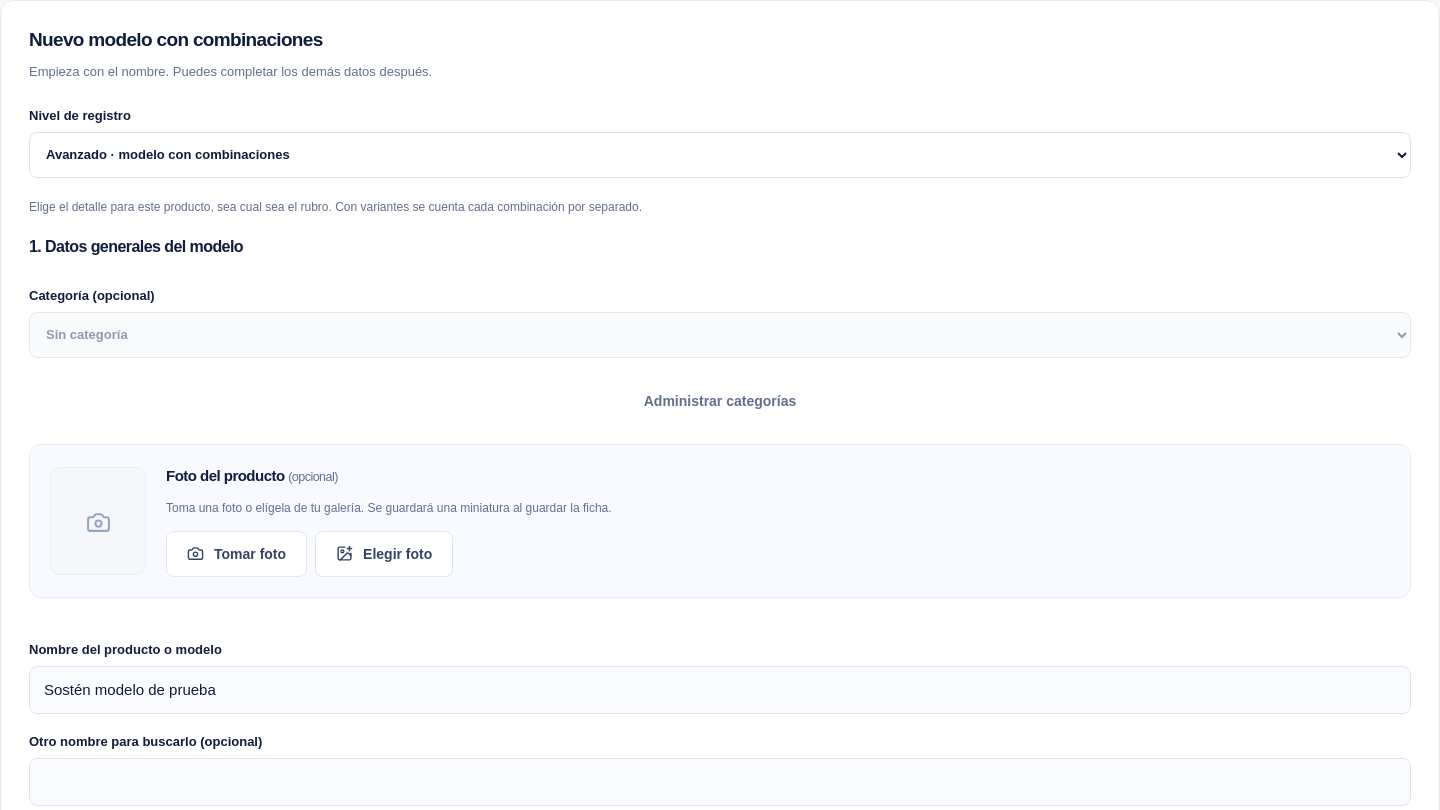
Test: presenta tarjetas y un botón de nueva categoría sin mezclar creación y edición en un select
The width and height of the screenshot is (1440, 810).
Click the button "Administrar categorías" at point(720, 400), box [29,378,1411,424]
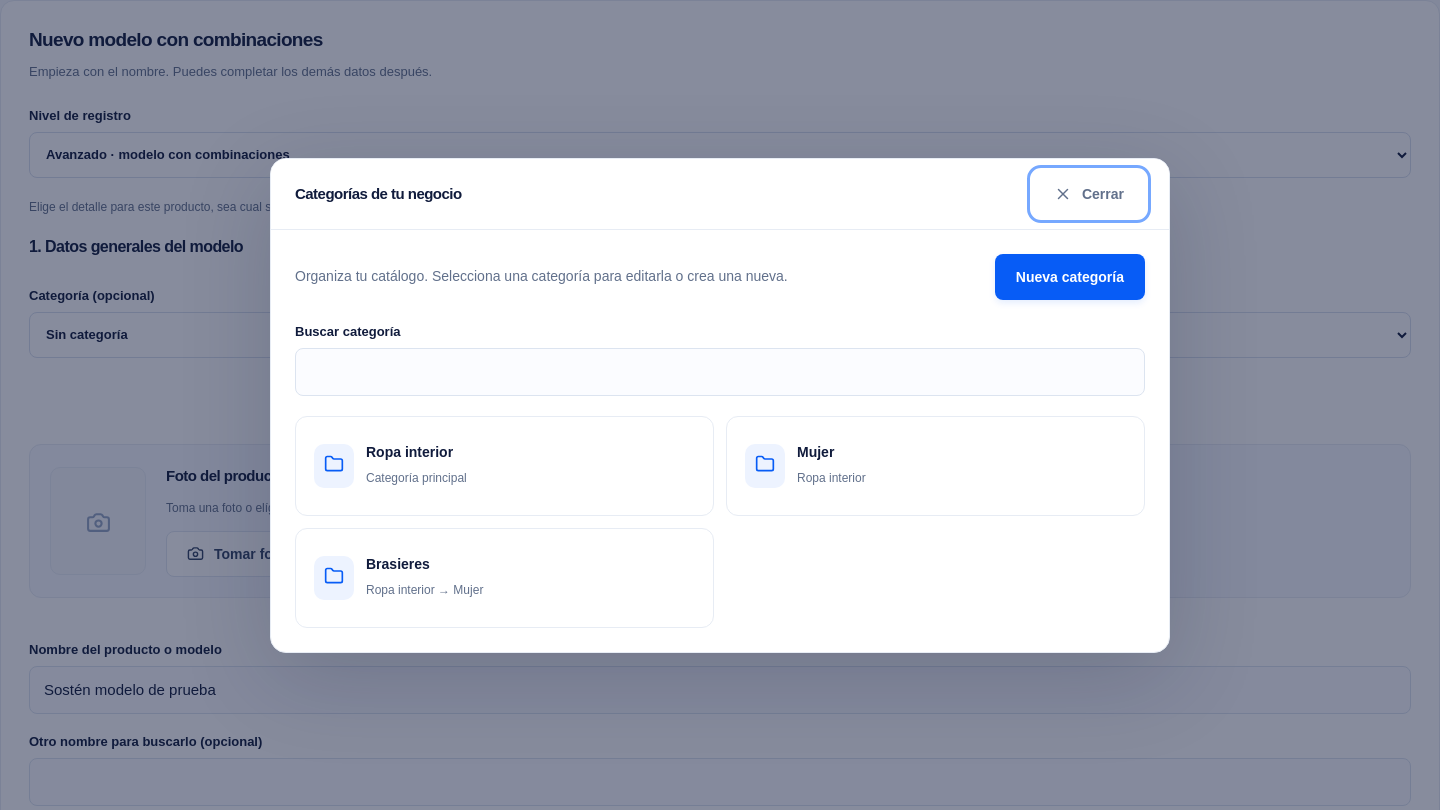
Check: the field labelled "Nombre de la categoría" is not shown
Check: the button with aria-label "Editar categoría Ropa interior" is shown
Click the button with aria-label "Editar categoría Ropa interior" at point(334, 466), box [295,416,714,516]
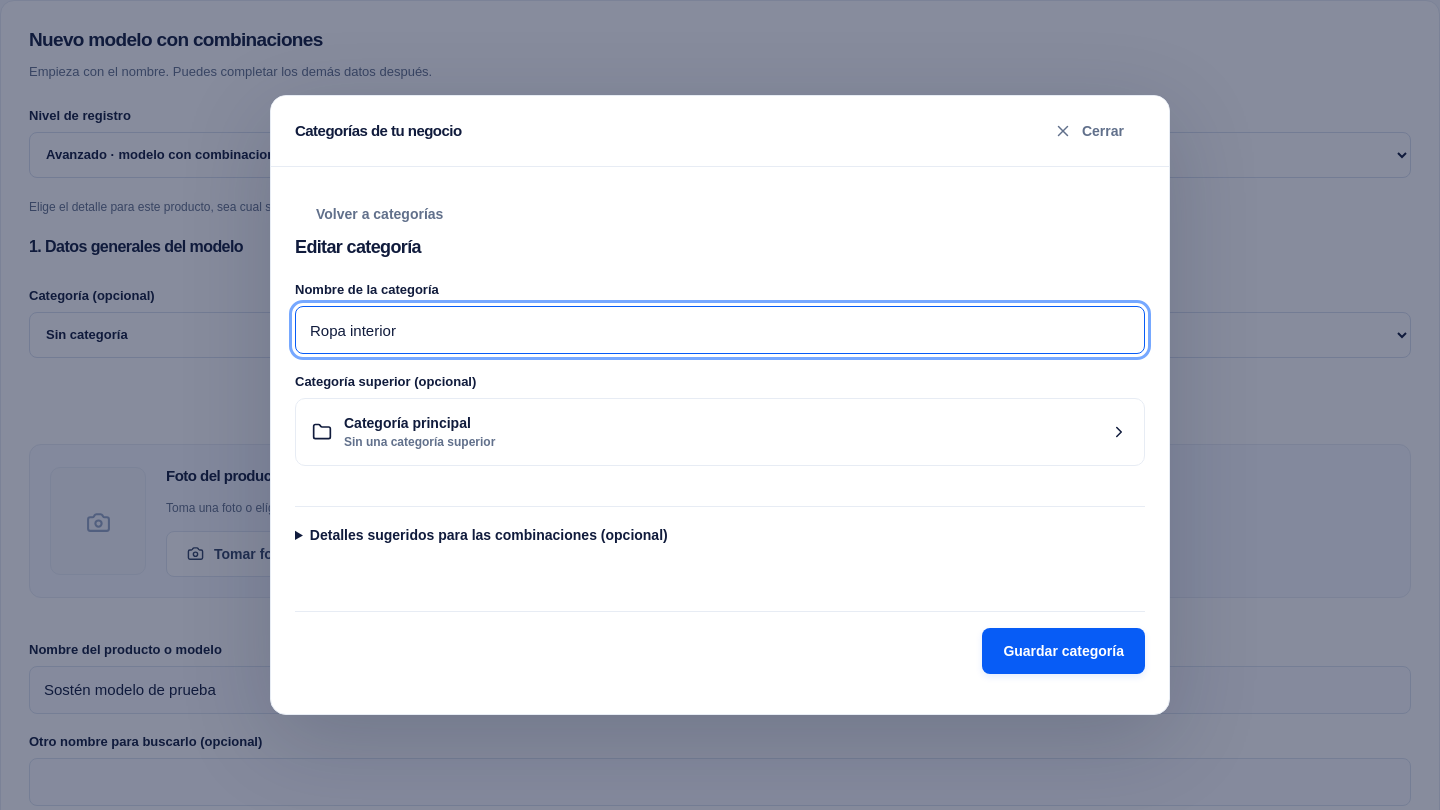
Check: the field labelled "Nombre de la categoría" holds "Ropa interior", box [295,306,1145,354]
Click the button with aria-label "Elegir categoría superior" at point(407, 423), box [295,398,1145,466]
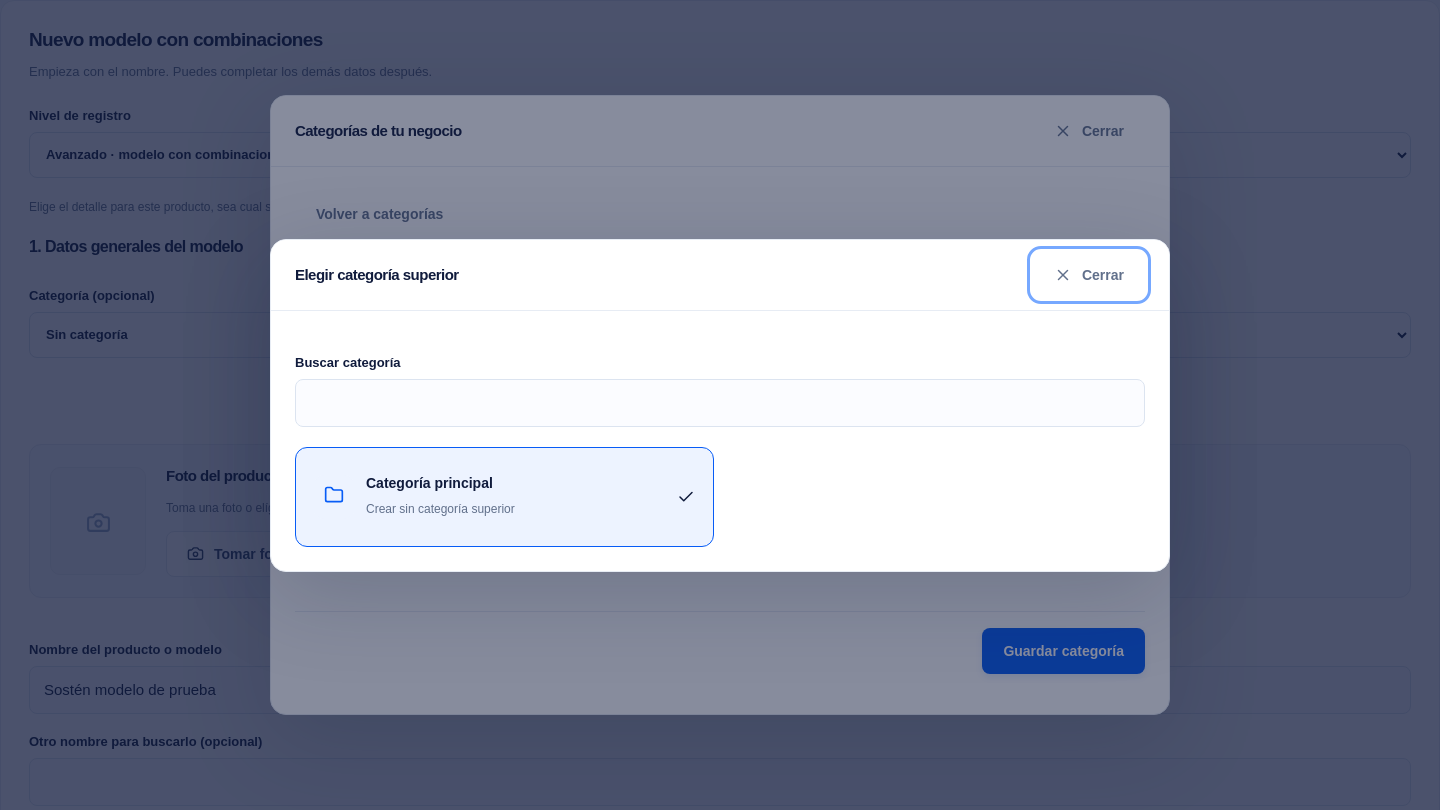
Check: the button "Ropa interior → Mujer" is not shown
Check: the button "Categoría principal" is shown, box [295,446,714,546]
